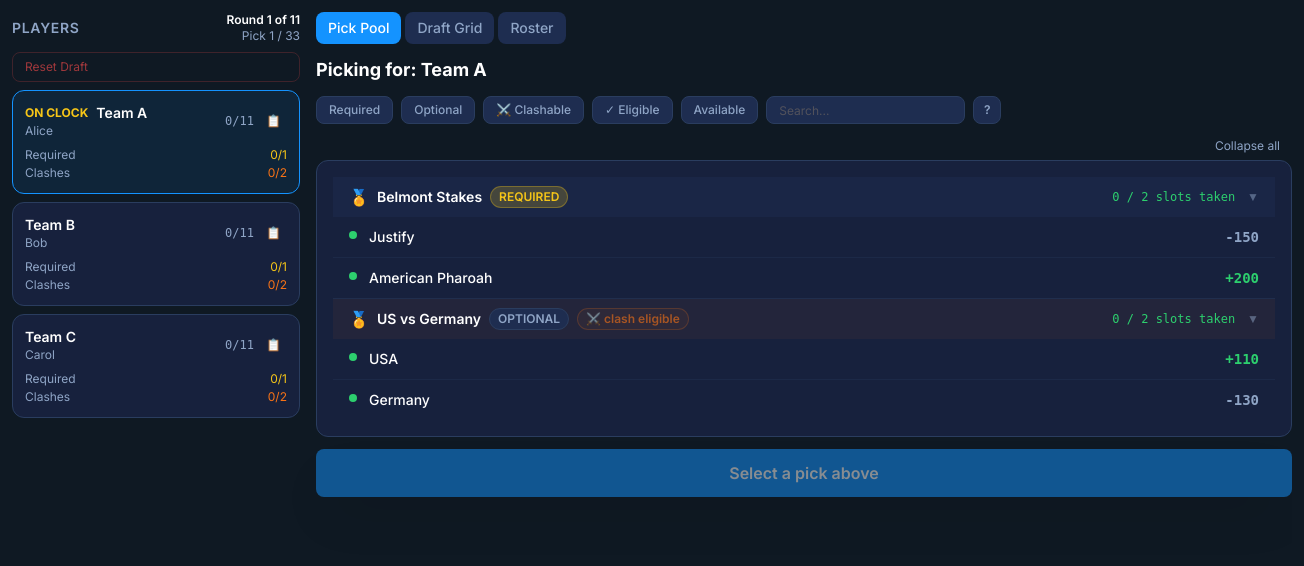
Test: DraftBoard › shows error when recordPick fails
The image size is (1304, 566).
Click the text "Justify": coordinates (392, 237) [369, 227, 415, 247]
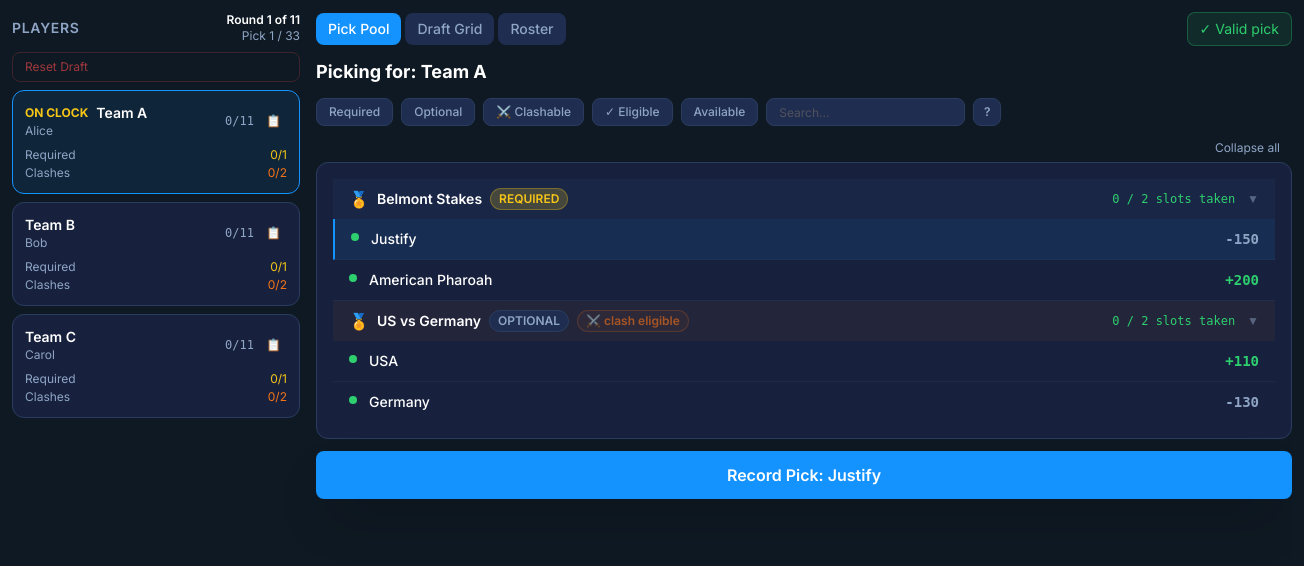
Expected: the button "Record Pick: Justify" is shown
Click the button "Record Pick: Justify": coordinates (804, 475) [316, 451, 1292, 499]
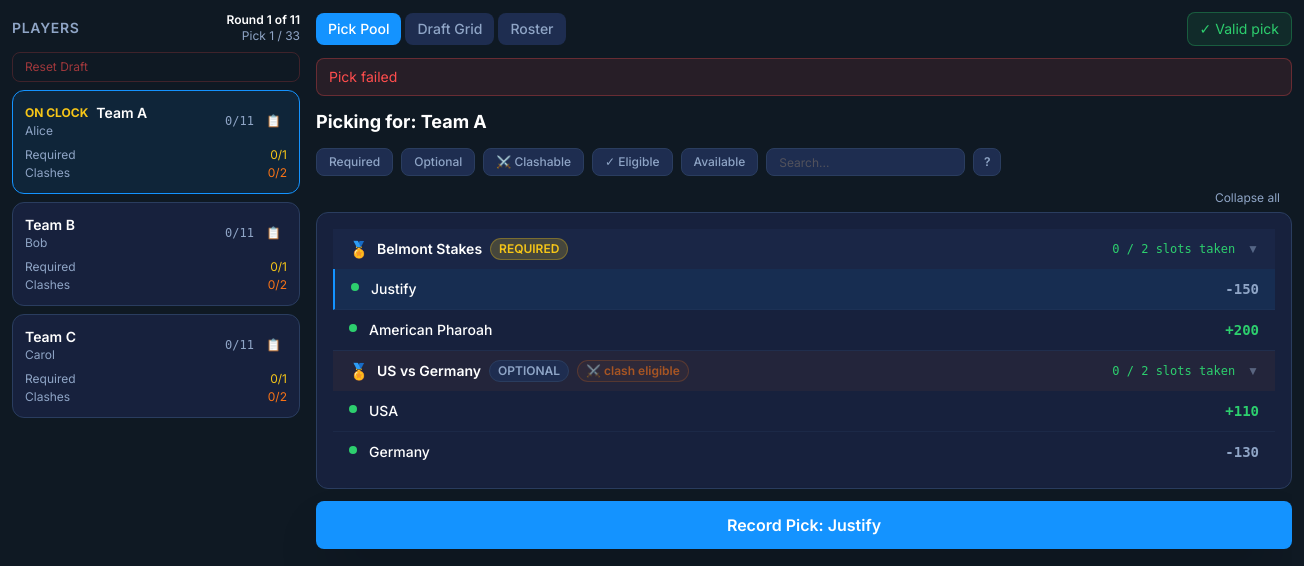
Expected: the text "Pick failed" is shown, [316, 58, 1292, 96]
